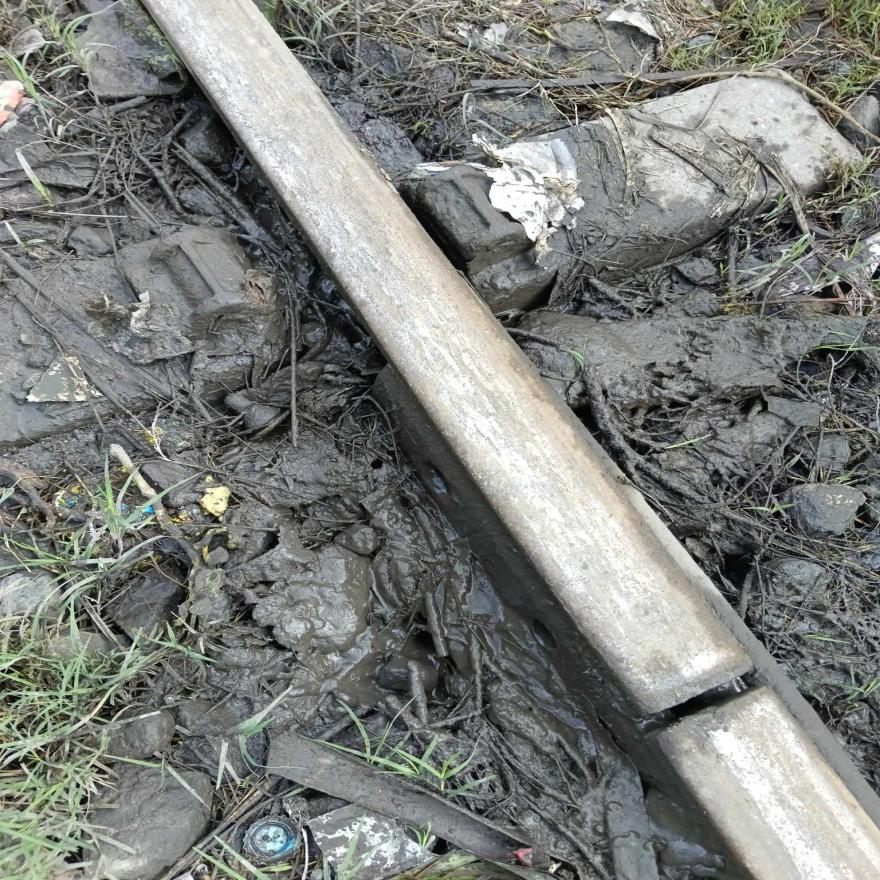railway-gap: (574, 604, 846, 802)
